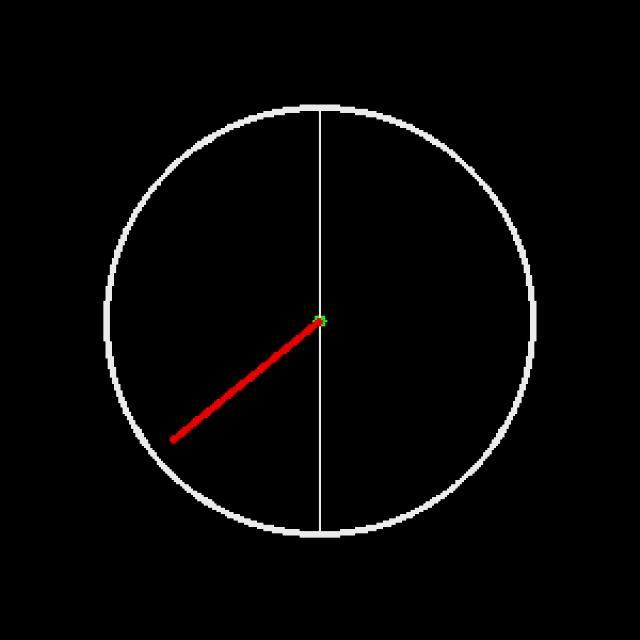Needle_Tip: (157, 413, 205, 463)
Needle_base: (296, 283, 346, 352)
